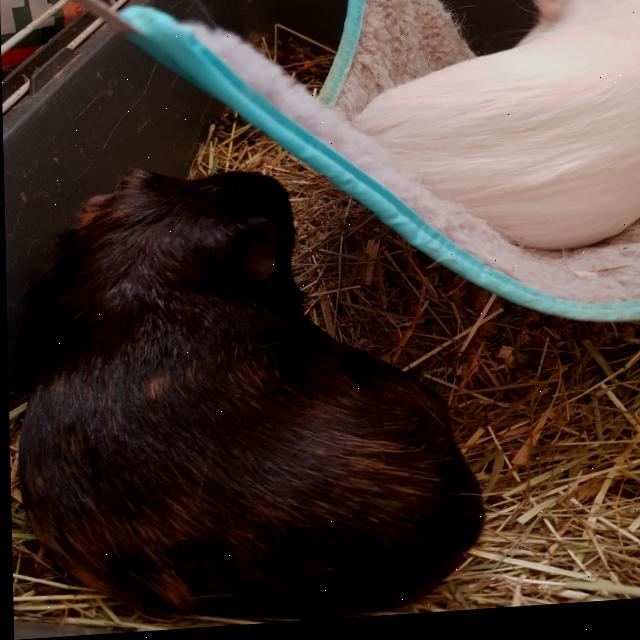guinea pig: (3, 151, 485, 640), (344, 0, 640, 273)
